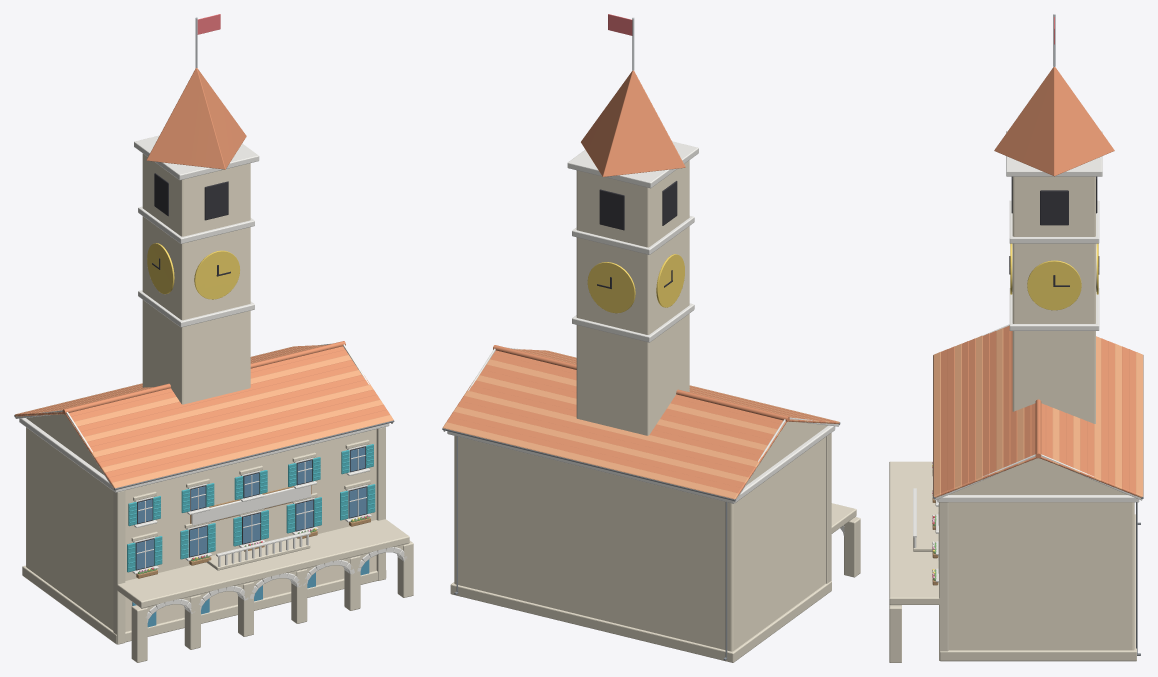
File: town_hall.fbx
The picture shows the model from 3 angles, left to right: view 1: azimuth 30°, elevation 25°; view 2: azimuth 150°, elevation 25°; view 3: azimuth 270°, elevation 25°; orthographic projection. The views are drawn at different scales.
Visible parts, largest first — view 1: Visual; view 2: Visual; view 3: Visual.
Part boxes in pixels (left/top/right/bottom): Visual: left=14, top=14, right=413, bottom=662; Visual: left=442, top=14, right=860, bottom=662; Visual: left=889, top=14, right=1143, bottom=662.
Size of what is drawn, in the model's own units: 2110 by 3980 by 1587.
